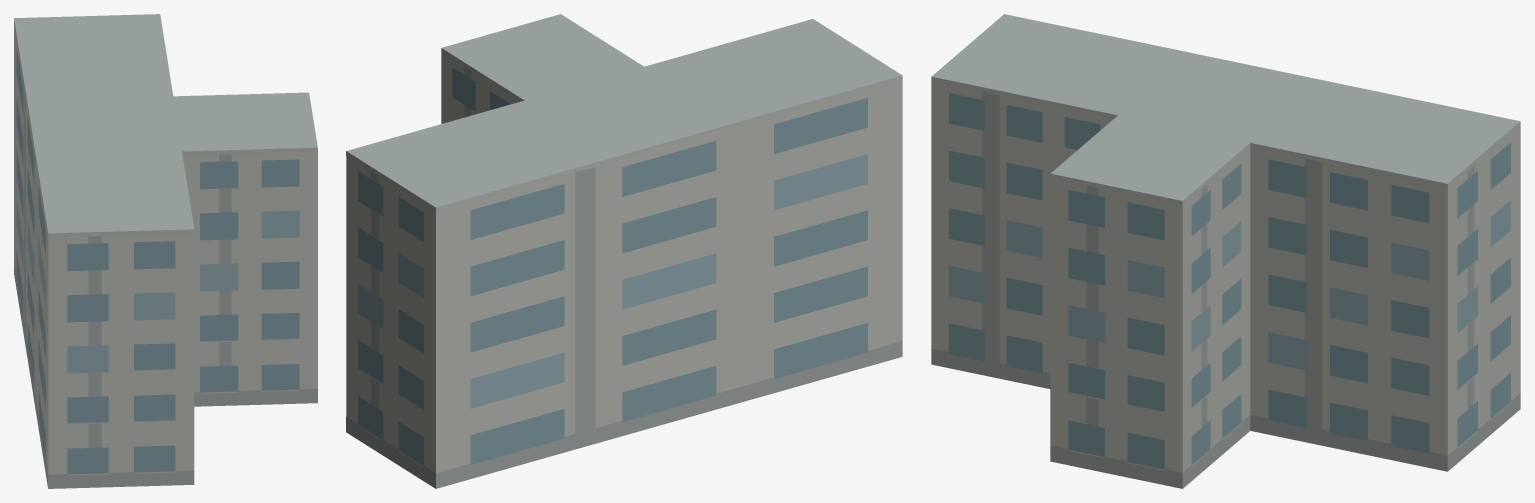
The model's file is residential-d8815935-61e2-43d6-b219-b0abd854f401.glb.
The picture shows the model from 3 angles, left to right: view 1: azimuth 30°, elevation 25°; view 2: azimuth 150°, elevation 25°; view 3: azimuth 270°, elevation 25°; orthographic projection. The views are drawn at different scales.
Parts seen in each view (by area): view 1: residential-d8815935-61e2-43d6-b219-b0abd854f401.tmp; view 2: residential-d8815935-61e2-43d6-b219-b0abd854f401.tmp; view 3: residential-d8815935-61e2-43d6-b219-b0abd854f401.tmp.
Part boxes in pixels (x1,y1,x2,y2): residential-d8815935-61e2-43d6-b219-b0abd854f401.tmp: (14,14,317,488); residential-d8815935-61e2-43d6-b219-b0abd854f401.tmp: (346,14,902,488); residential-d8815935-61e2-43d6-b219-b0abd854f401.tmp: (931,14,1520,488).
Bounding box in the file's own units: 21.25 × 15.25 × 28.29.
